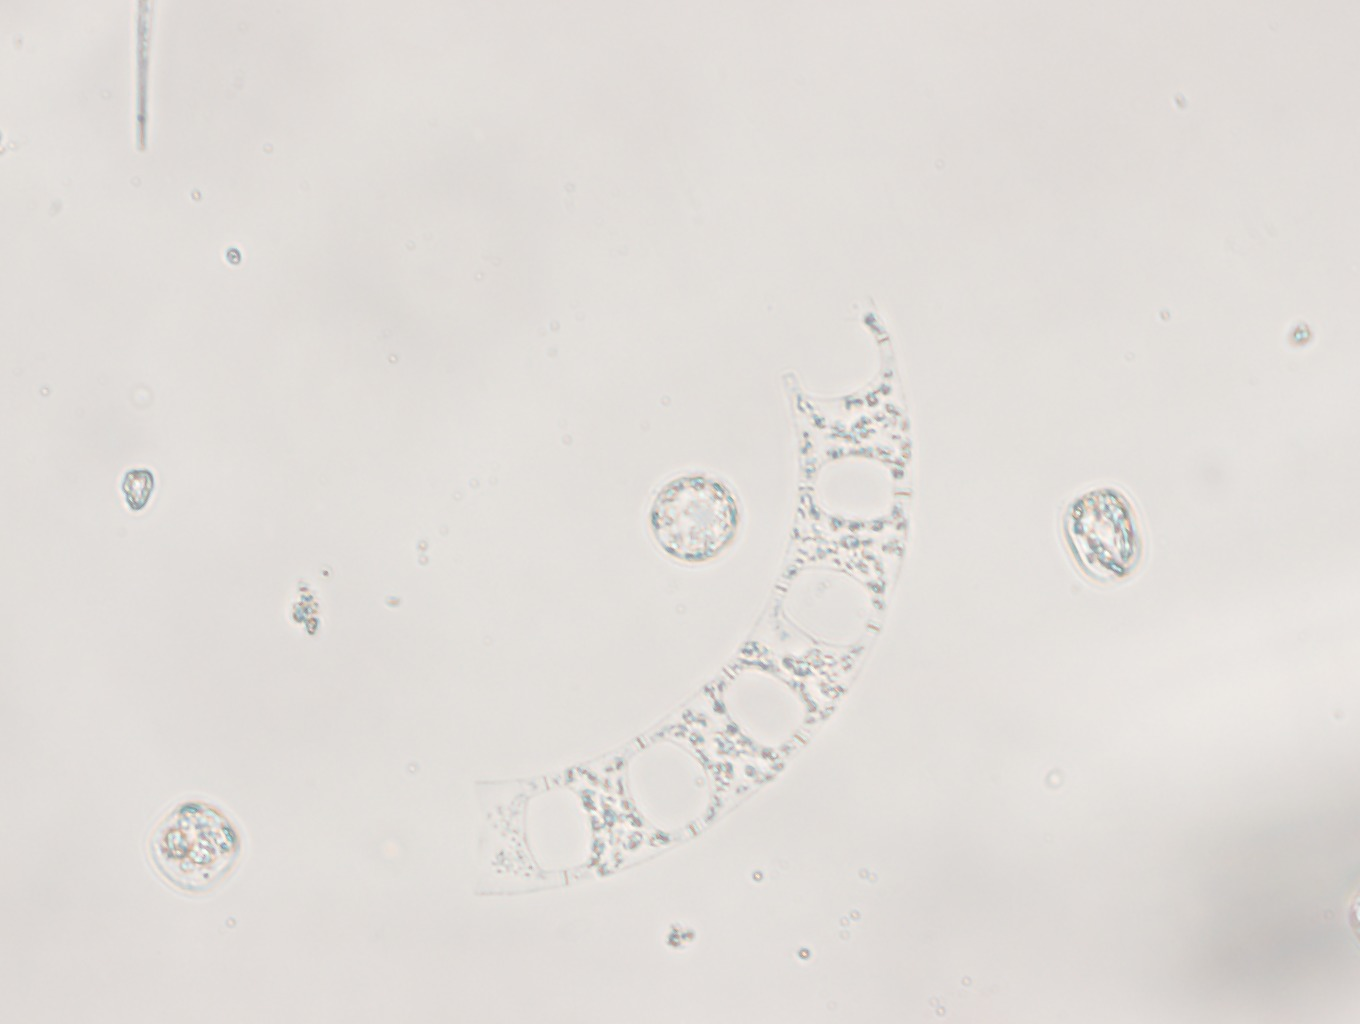eucampia: (469, 295, 914, 897)
